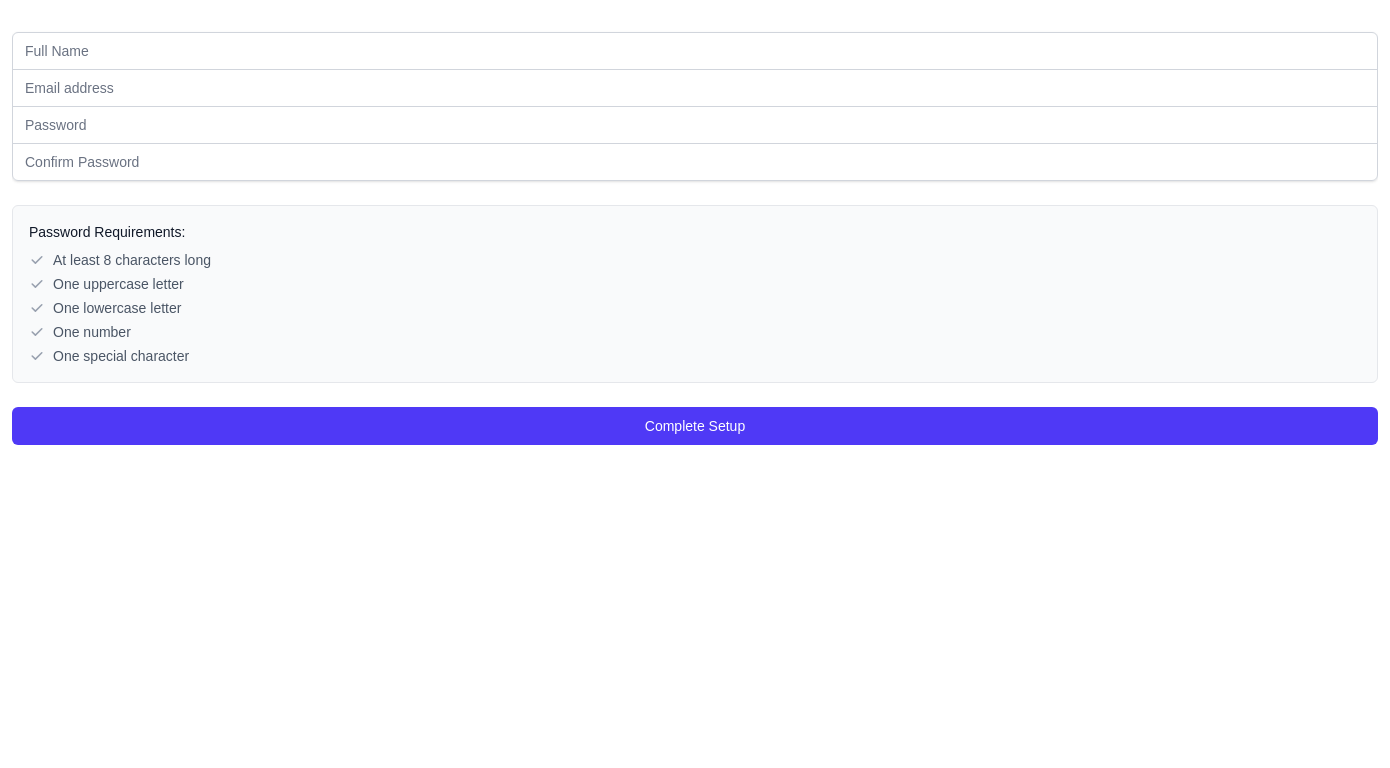
Test: SetupForm › should validate password complexity
The image size is (1390, 768).
Type "weak" into the password field with test id "password-input" at [695, 125], box [12,106,1378,144]
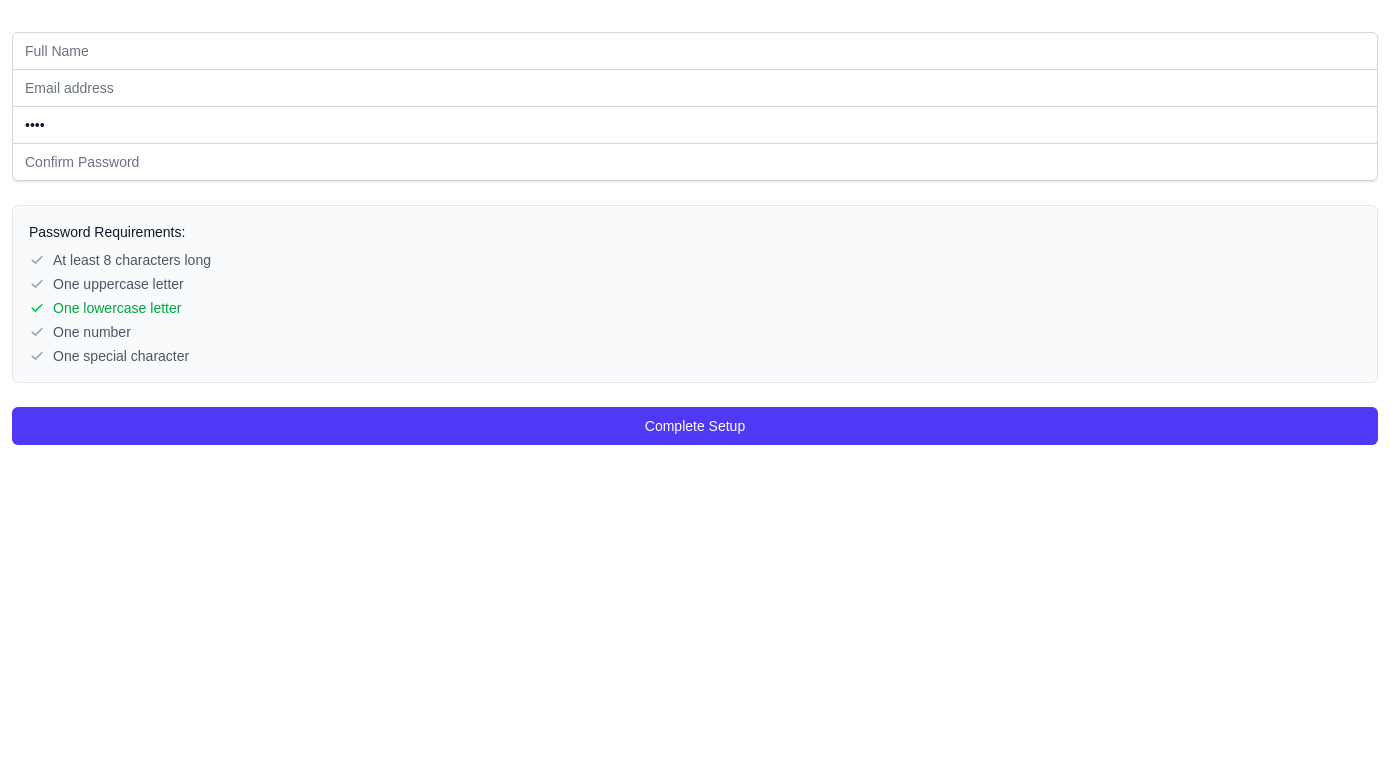
Click the button with test id "setup-button" at [695, 426], box [12,407,1378,445]
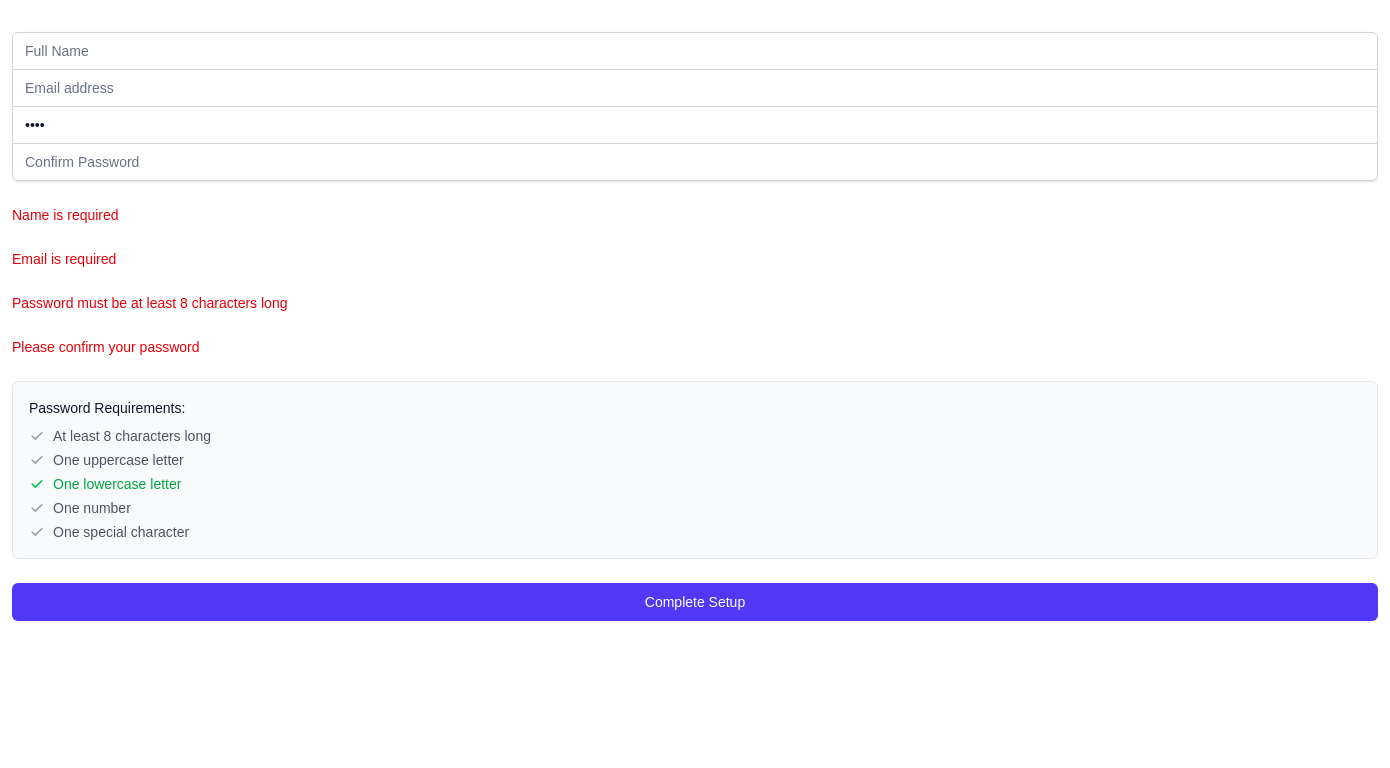
Now the text "Password must be at least 8 characters long" is shown, box [12,295,288,311]
